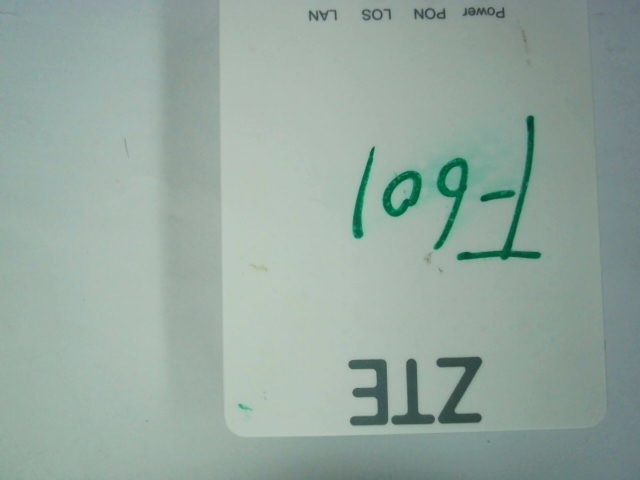AN_ZTE: (340, 348, 485, 427)
